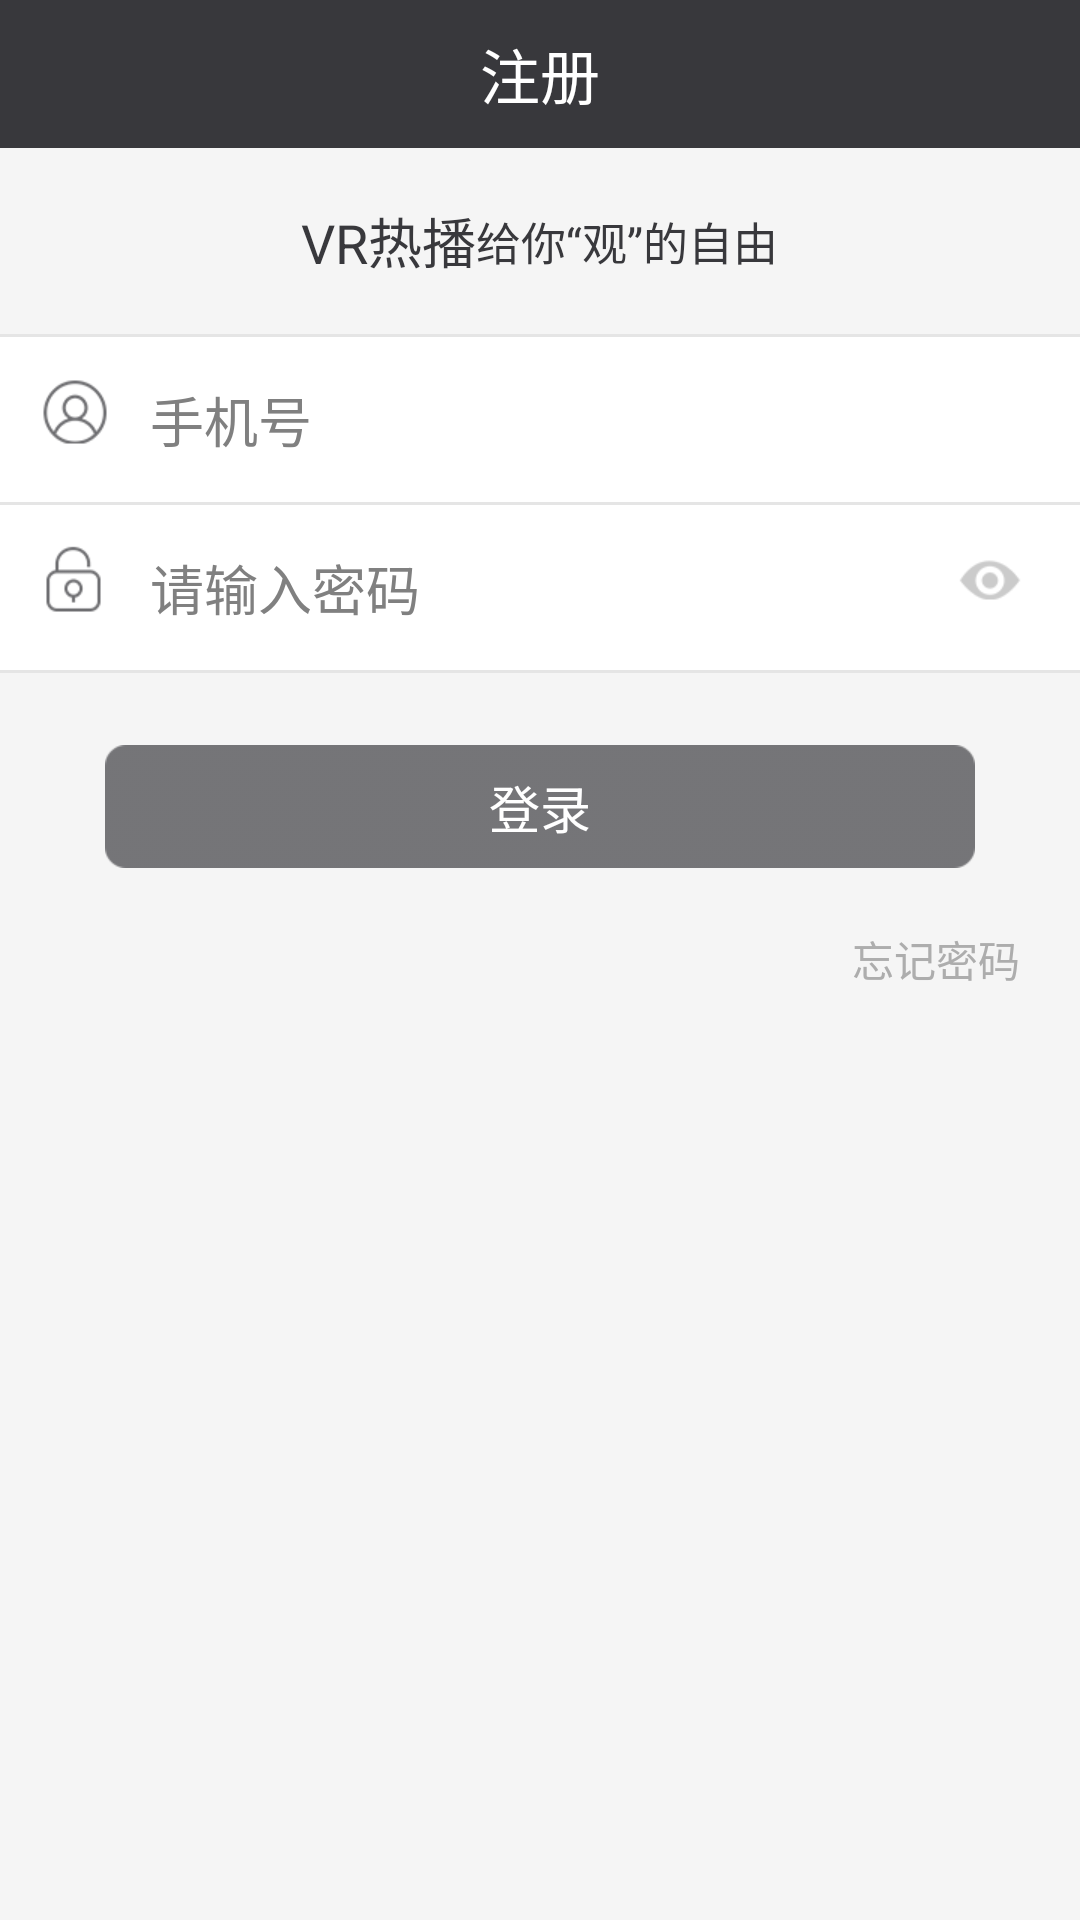

Icon bounding boxes for this 1080*1920 phone screenshot, format (x1, y1, x2, y2):
look: (960, 561, 1019, 600)
